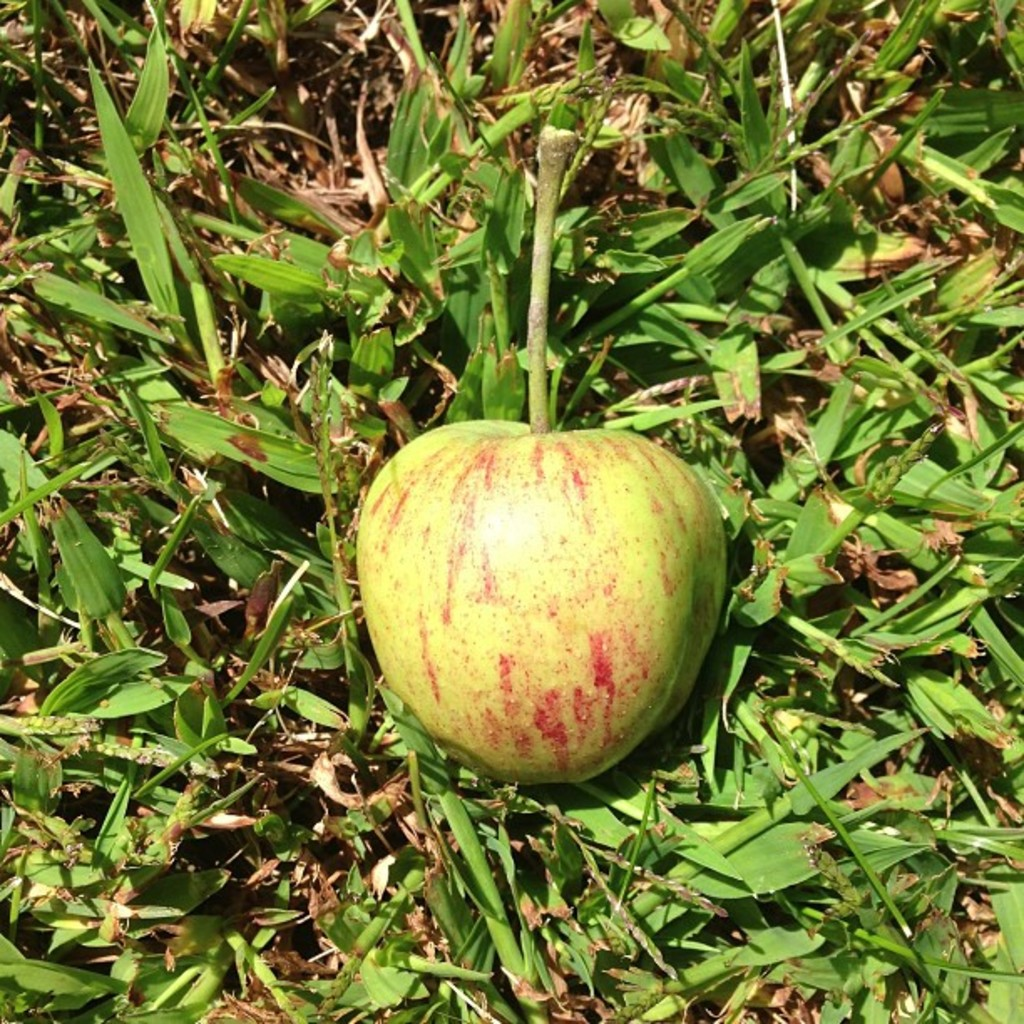Apple: (358, 393, 727, 786)
